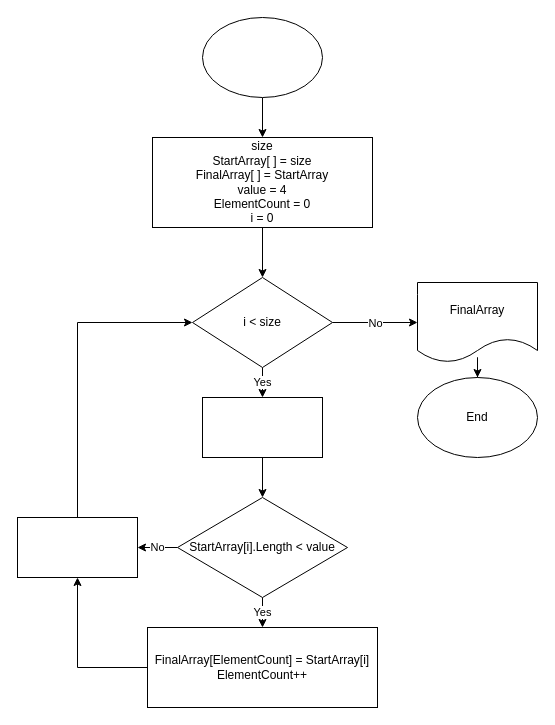
This 555x725 diagram has some shape labels left out. The shapes that lost their labels are listed below. From the top down, each one's centre as x and y in pixels, then its label:
the point at 262,57: Start
the point at 262,427: StartArray[i]
the point at 77,547: i++
